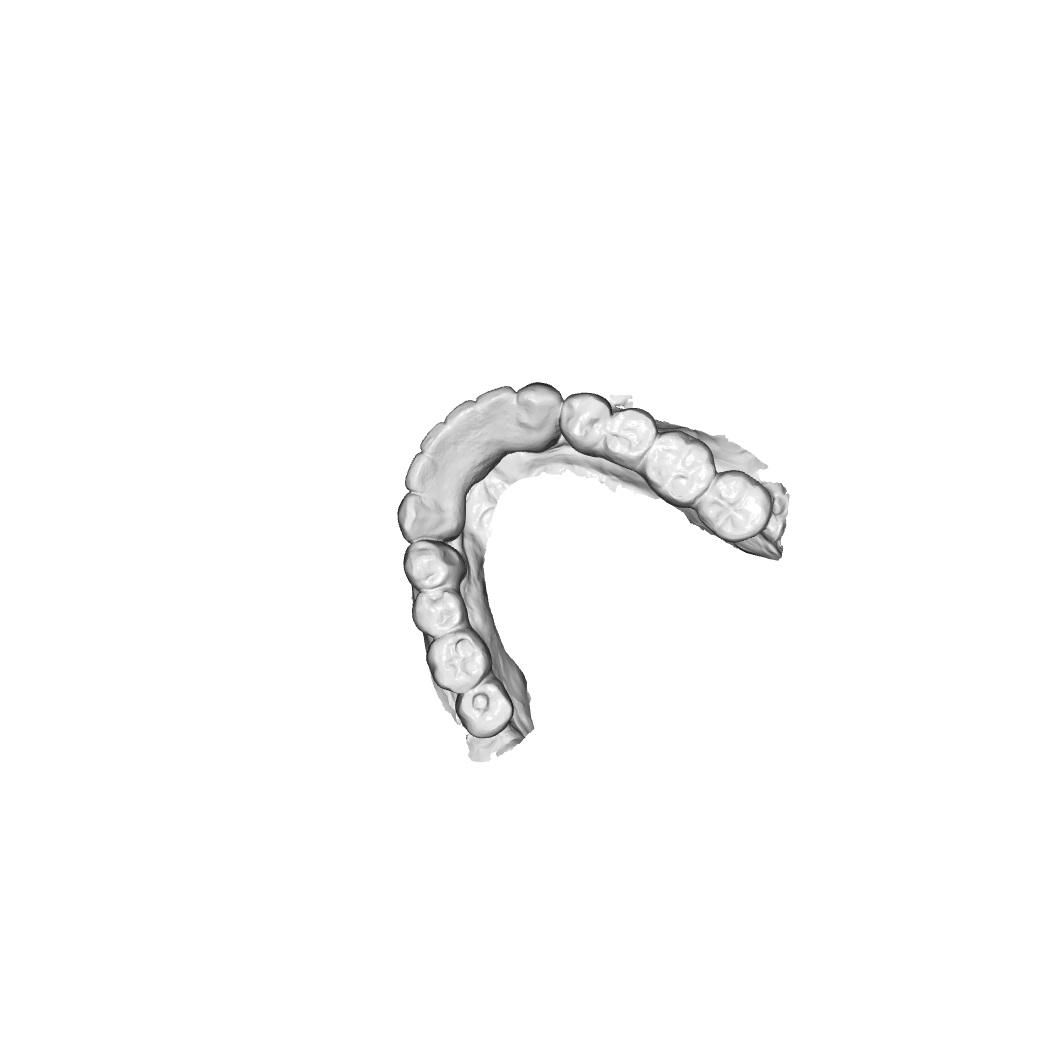canine: (396, 492, 466, 544), (516, 381, 565, 455)
incisor: (475, 385, 517, 434), (402, 451, 439, 494), (444, 399, 479, 443), (419, 421, 452, 463)
molar: (695, 468, 774, 545), (642, 430, 717, 509), (425, 626, 493, 695), (454, 674, 515, 740)
premolar: (558, 391, 613, 456), (402, 539, 469, 592), (605, 407, 658, 471), (410, 589, 468, 639)
